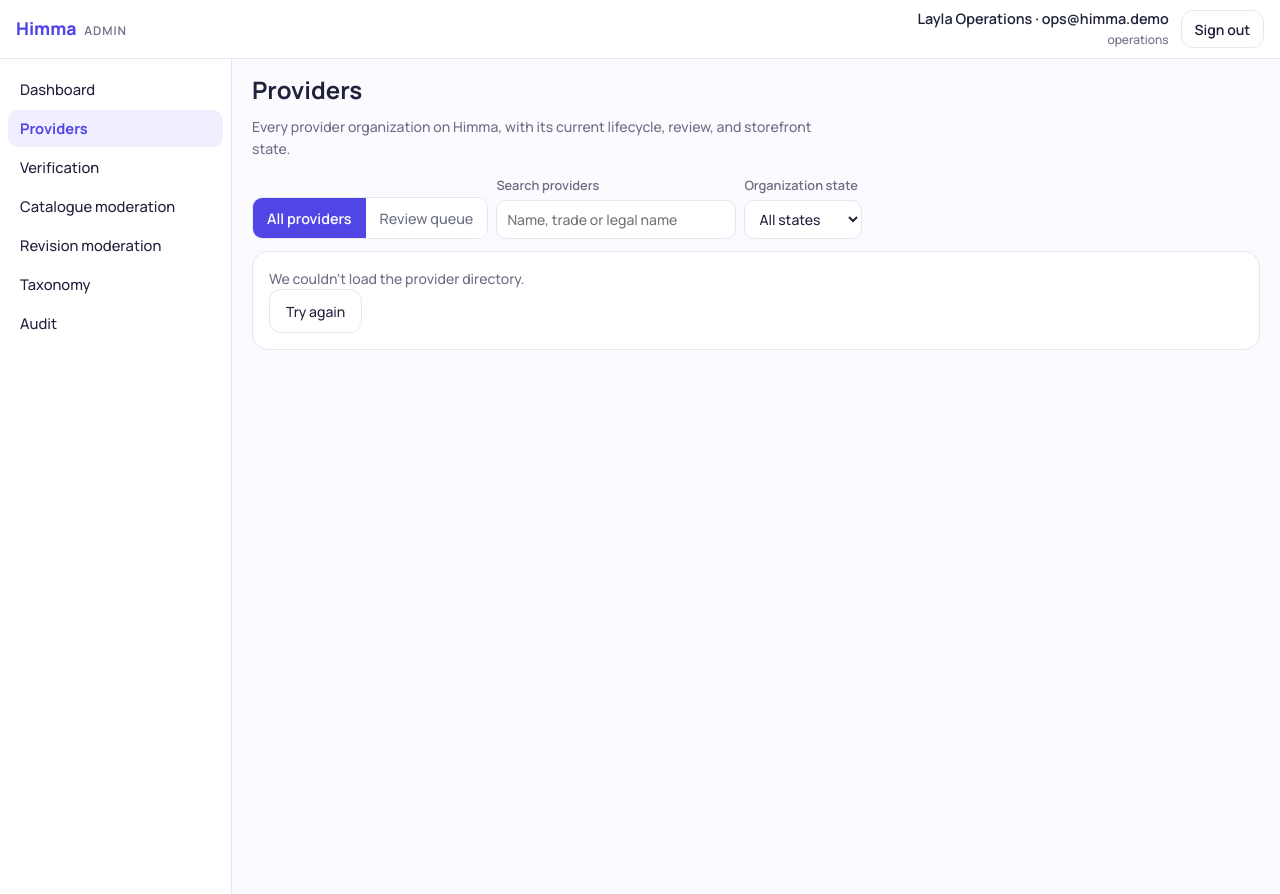
provider directory (task §22) › an outage shows the error state with retry — never fixture rows during failure
expect the text "We couldn’t load the provider directory." is shown: met, box top-left (269, 269), bottom-right (524, 288)
Click the button "Try again" at (316, 311), box top-left (269, 289), bottom-right (362, 333)
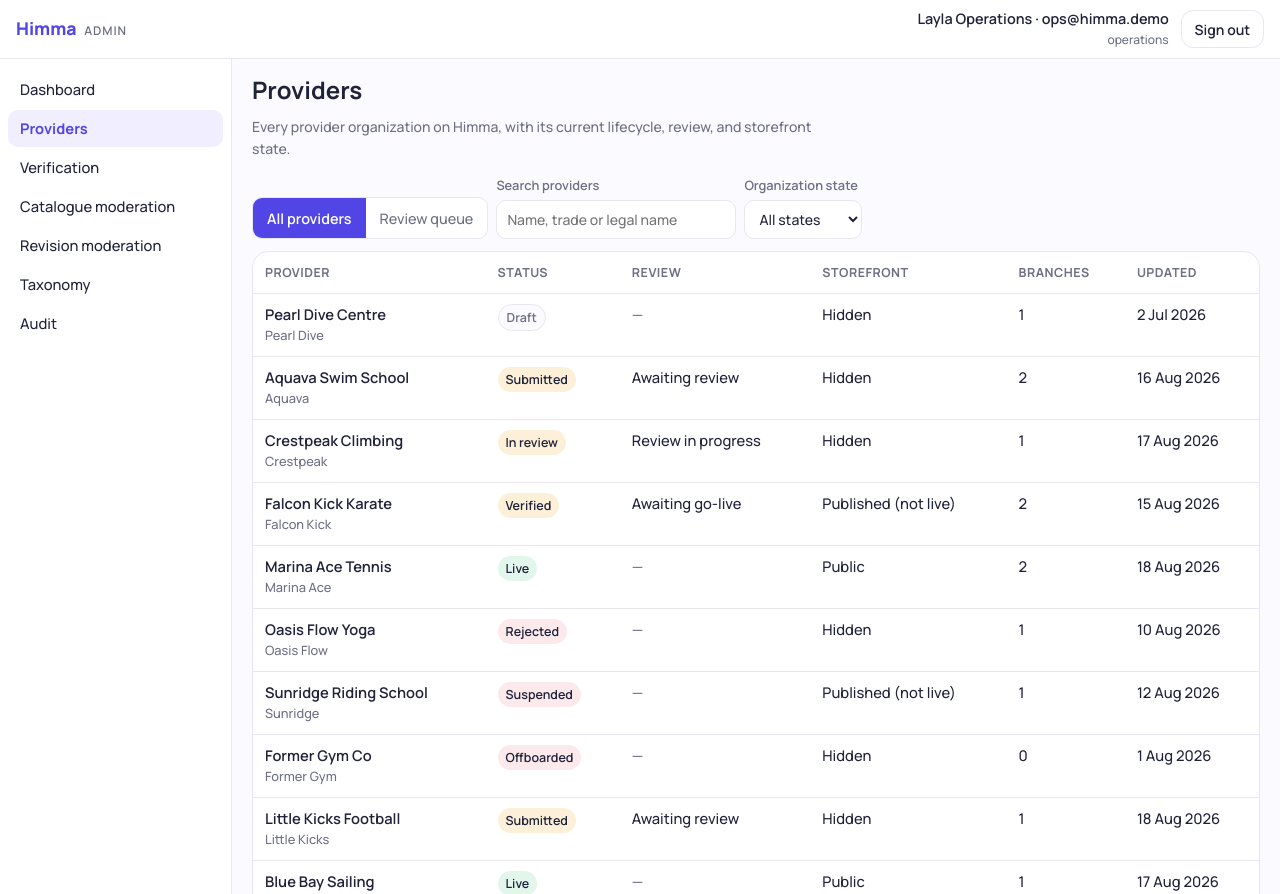
expect the link "Marina Ace Tennis" is shown: met, box top-left (265, 556), bottom-right (392, 576)
